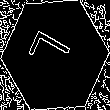L_SE: (29, 29, 81, 81)
